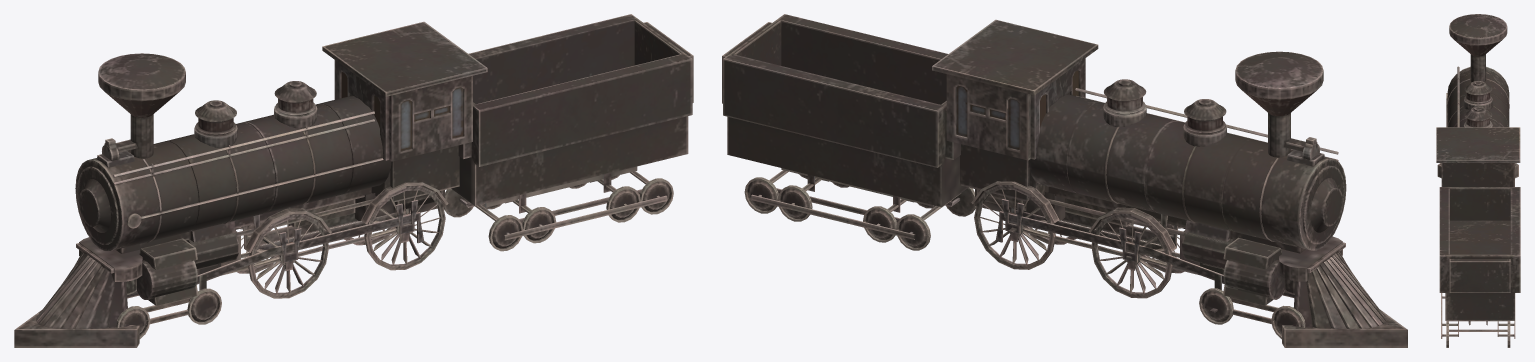
File: Props_02_Train_Unity.FBX
The picture shows the model from 3 angles, left to right: view 1: azimuth 30°, elevation 25°; view 2: azimuth 150°, elevation 25°; view 3: azimuth 270°, elevation 25°; orthographic projection. The views are drawn at different scales.
Visible parts, largest first — view 1: Props_02_Train_Unity; view 2: Props_02_Train_Unity; view 3: Props_02_Train_Unity.
Part boxes in pixels (x1,y1,x2,y2): Props_02_Train_Unity: (14, 14, 693, 347); Props_02_Train_Unity: (722, 14, 1407, 347); Props_02_Train_Unity: (1436, 14, 1520, 347).
Bounding box in the file's own units: 896 × 325 × 150.
1 material, 1 textured.
